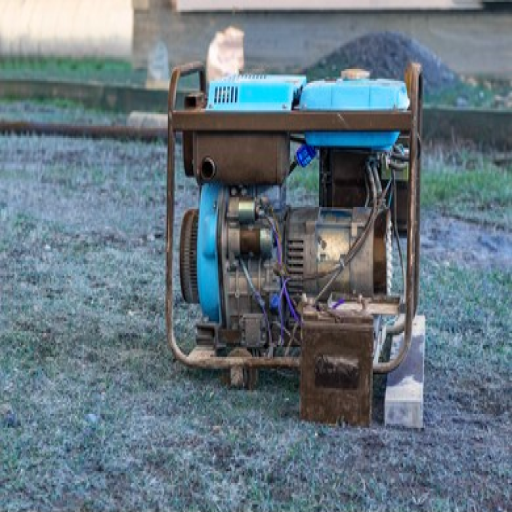portable_generator: (166, 61, 424, 369)
